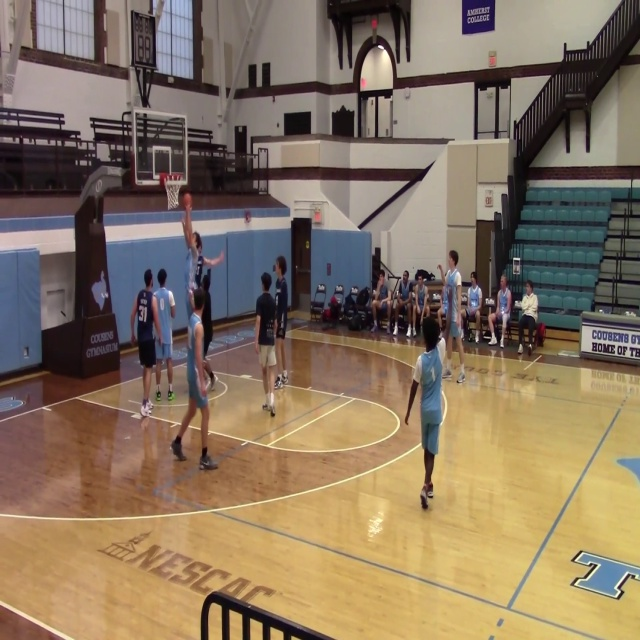Basketball: (182, 193, 192, 208)
